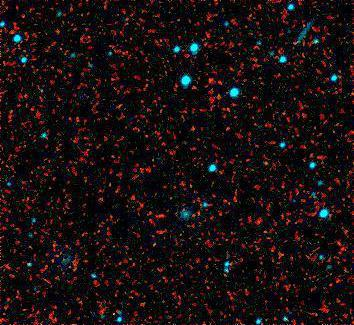star: (250, 150, 280, 180)
